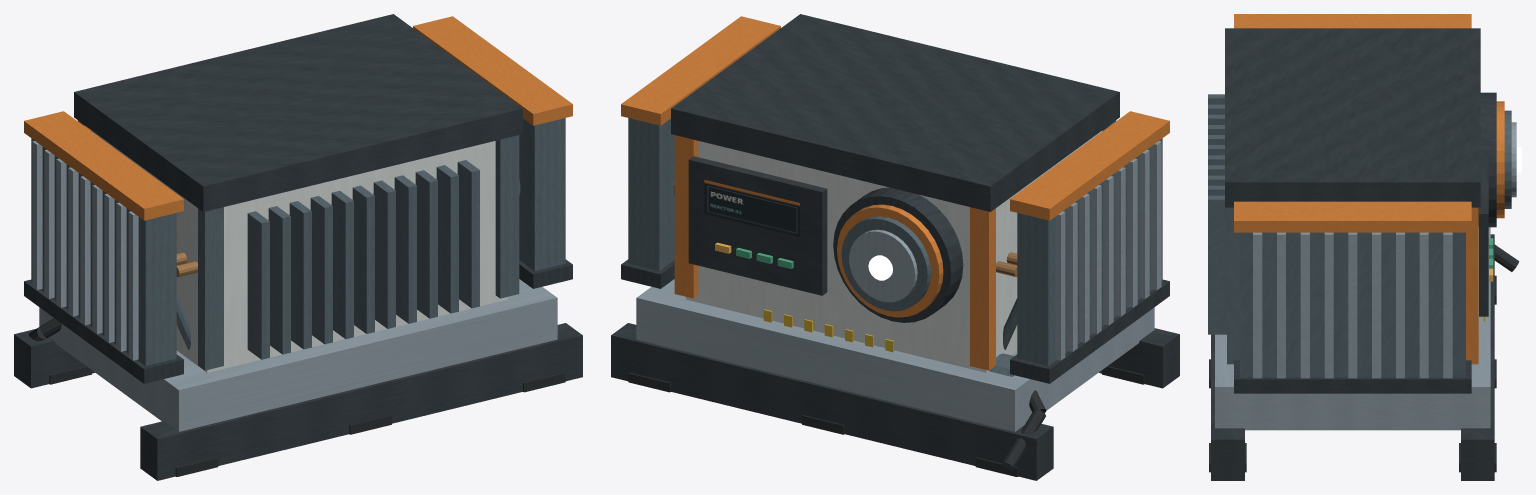
Rendered from surface_reactor.glb.
The picture shows the model from 3 angles, left to right: view 1: azimuth 30°, elevation 25°; view 2: azimuth 150°, elevation 25°; view 3: azimuth 270°, elevation 25°; orthographic projection.
Visible parts, largest first — view 1: top_armour_graphite, radiator_fins_metal_dark, reactor_mount_steel, skid_platform_graphite, radiator_panels_metal_dark, radiator_ribs_steel, main_shield_casing_ceramic, radiator_upper_frame_orange, rear_corner_guards_metal_dark, radiator_lower_frame_graphite, grip_pads_rubber; view 2: top_armour_graphite, reactor_mount_steel, skid_platform_graphite, main_shield_casing_ceramic, radiator_panels_metal_dark, radiator_ribs_steel, radiator_upper_frame_orange, front_control_graphite, front_corner_guards_orange, reactor_shielded_service_core_graphite, radiator_lower_frame_graphite, reactor_shielded_service_core_steel (+6 smaller); view 3: top_armour_graphite, radiator_panels_metal_dark, radiator_ribs_steel, reactor_mount_steel, radiator_upper_frame_orange, skid_platform_graphite, radiator_fins_metal_dark, radiator_lower_frame_graphite, front_corner_guards_orange, rear_corner_guards_metal_dark, reactor_shielded_service_core_graphite, front_control_graphite (+5 smaller).
Boxes of the visible parts, bbox=[...] form: top_armour_graphite: bbox=[74, 14, 522, 211]; radiator_fins_metal_dark: bbox=[247, 160, 479, 359]; reactor_mount_steel: bbox=[39, 279, 557, 431]; skid_platform_graphite: bbox=[14, 323, 582, 480]; radiator_panels_metal_dark: bbox=[31, 118, 565, 365]; radiator_ribs_steel: bbox=[32, 141, 138, 360]; main_shield_casing_ceramic: bbox=[91, 130, 507, 372]; radiator_upper_frame_orange: bbox=[24, 16, 572, 220]; rear_corner_guards_metal_dark: bbox=[198, 135, 519, 370]; radiator_lower_frame_graphite: bbox=[24, 259, 572, 383]; grip_pads_rubber: bbox=[49, 366, 565, 476]; top_armour_graphite: bbox=[671, 14, 1119, 211]; reactor_mount_steel: bbox=[636, 279, 1154, 431]; skid_platform_graphite: bbox=[611, 323, 1179, 480]; main_shield_casing_ceramic: bbox=[686, 130, 1102, 372]; radiator_panels_metal_dark: bbox=[628, 118, 1162, 365]; radiator_ribs_steel: bbox=[1055, 141, 1161, 360]; radiator_upper_frame_orange: bbox=[621, 16, 1169, 220]; front_control_graphite: bbox=[688, 156, 827, 295]; front_corner_guards_orange: bbox=[674, 135, 995, 370]; reactor_shielded_service_core_graphite: bbox=[833, 187, 963, 322]; radiator_lower_frame_graphite: bbox=[621, 259, 1169, 383]; reactor_shielded_service_core_steel: bbox=[849, 229, 917, 302]; top_armour_graphite: bbox=[1225, 28, 1480, 207]; radiator_panels_metal_dark: bbox=[1240, 232, 1465, 377]; radiator_ribs_steel: bbox=[1253, 232, 1452, 378]; reactor_mount_steel: bbox=[1215, 227, 1490, 430]; radiator_upper_frame_orange: bbox=[1234, 14, 1471, 232]; skid_platform_graphite: bbox=[1211, 234, 1494, 480]; radiator_fins_metal_dark: bbox=[1208, 94, 1226, 334]; radiator_lower_frame_graphite: bbox=[1234, 360, 1471, 393]; front_corner_guards_orange: bbox=[1466, 207, 1478, 364]; rear_corner_guards_metal_dark: bbox=[1227, 207, 1239, 364]; reactor_shielded_service_core_graphite: bbox=[1478, 92, 1496, 227]; front_control_graphite: bbox=[1479, 149, 1488, 316].
Bounding box in the file's own units: 2.48 × 1.52 × 1.58.
Materials: 12 (12 with a texture image).
